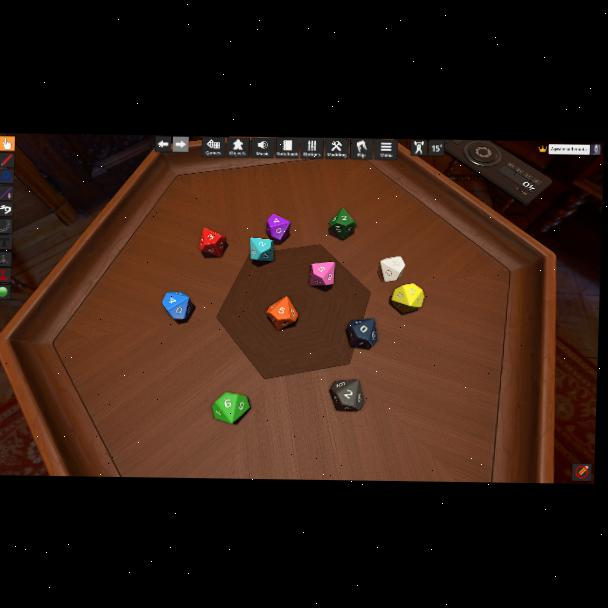d10: (212, 391, 251, 422), (266, 296, 299, 331), (329, 379, 364, 412), (391, 283, 424, 313), (328, 207, 355, 241), (163, 291, 193, 321), (199, 227, 226, 257), (264, 214, 289, 244), (379, 255, 404, 283), (248, 236, 273, 262), (310, 261, 334, 287)
